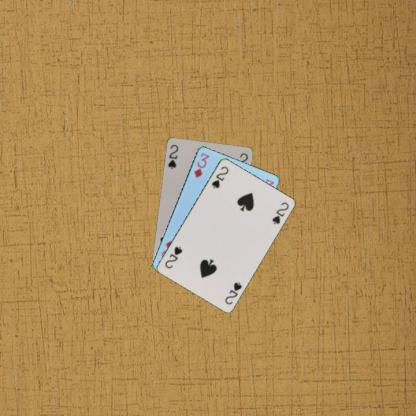2s: (222, 279, 243, 306), (209, 164, 230, 190), (165, 141, 179, 170)
3d: (192, 150, 210, 179)
